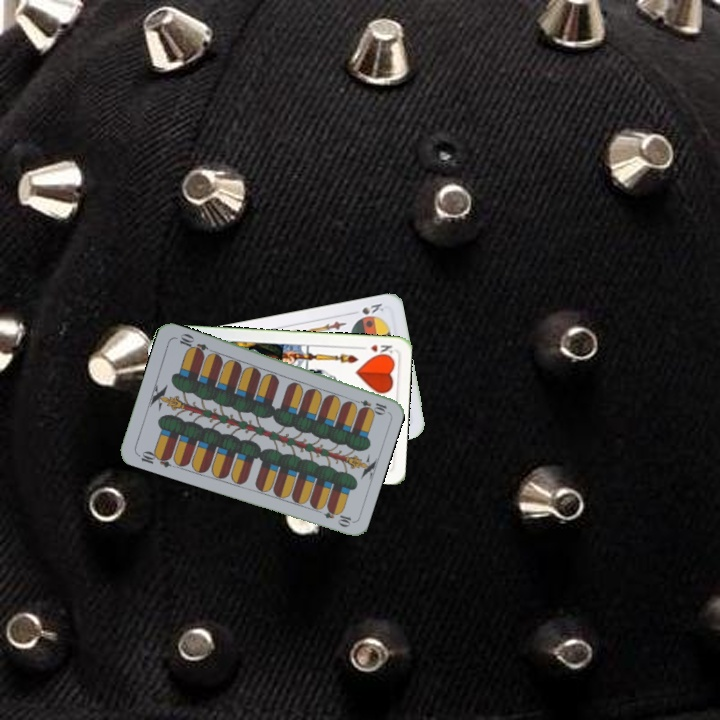E10: (133, 447, 174, 470), (349, 395, 389, 416)
HK: (355, 340, 395, 359)
SK: (358, 299, 386, 317)
